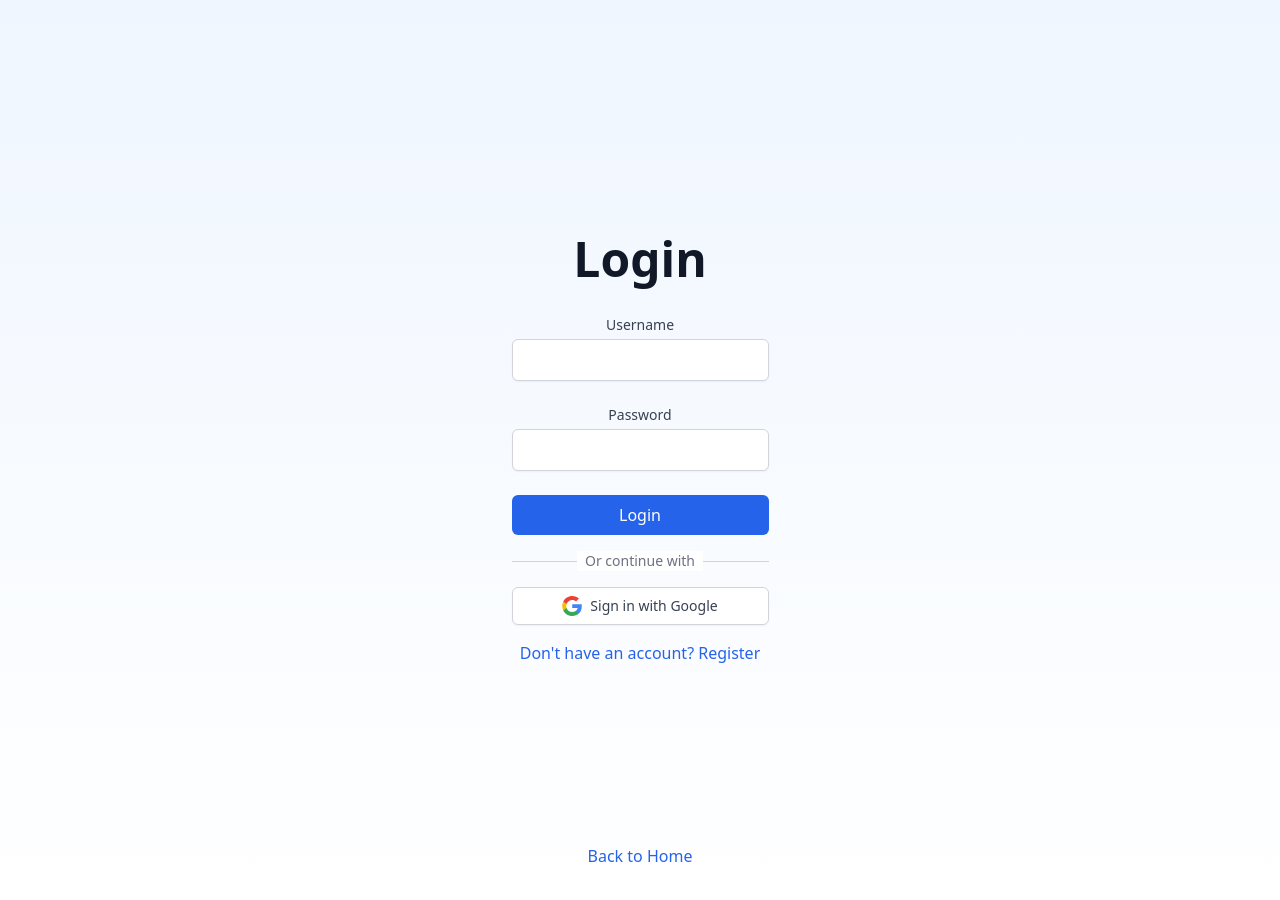
Scenario: Login Component › shows error on failed login
The image size is (1280, 900).
In the field labelled "Username": x=640, y=360 [512, 339, 768, 381], type "testuser"
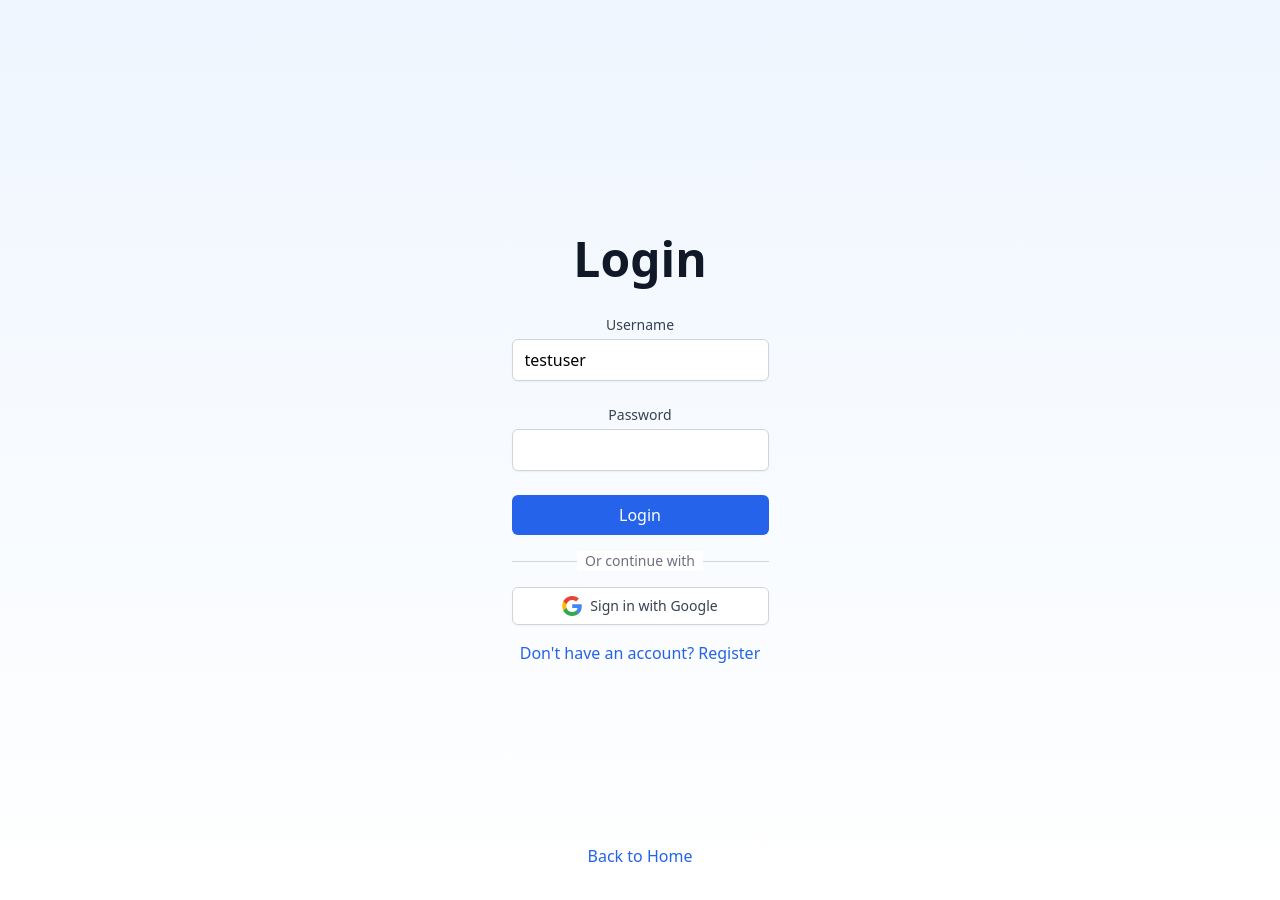
In the password field labelled "Password": x=640, y=450 [512, 429, 768, 471], type "wrongpass"
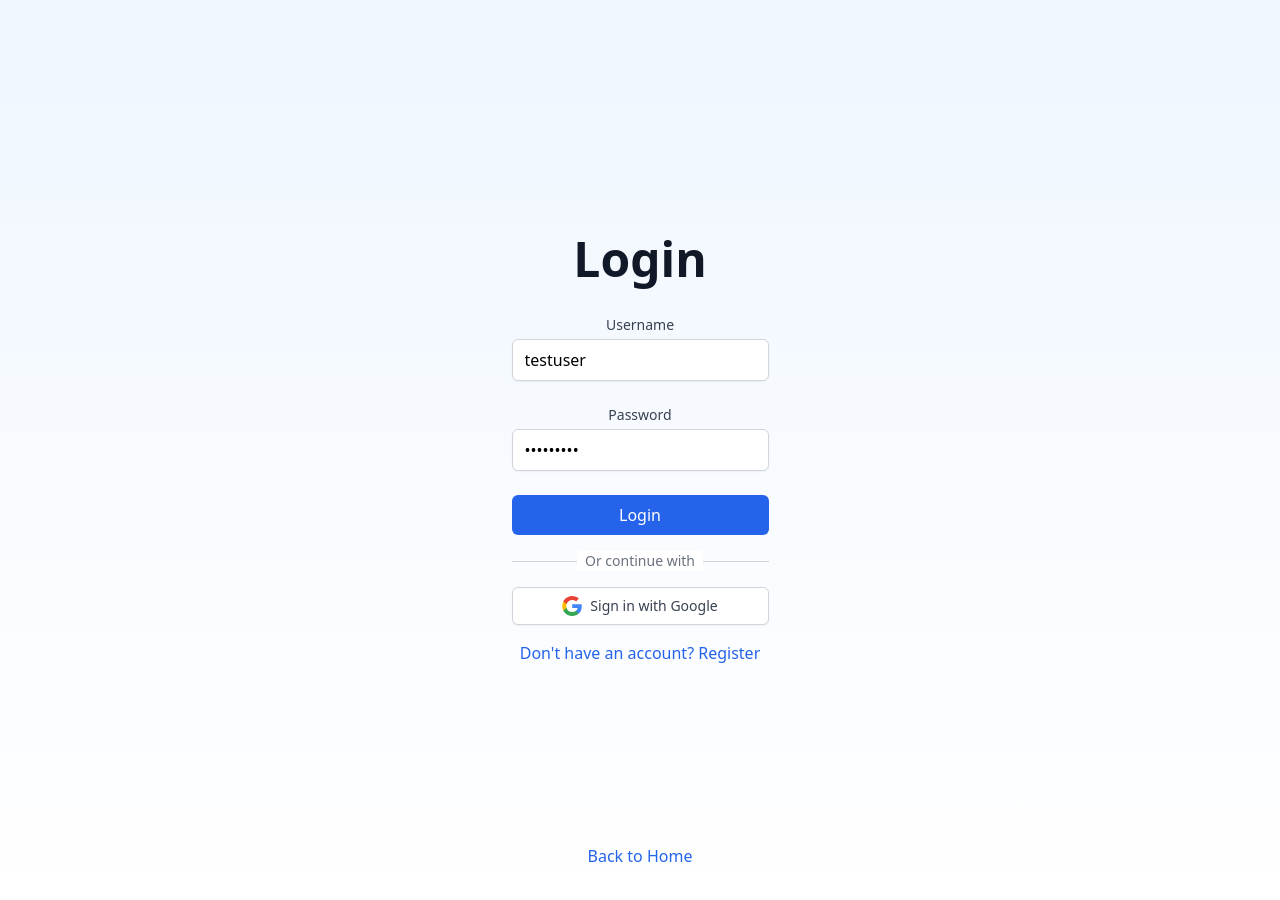
Click the button "Login": x=640, y=515 [512, 495, 768, 535]
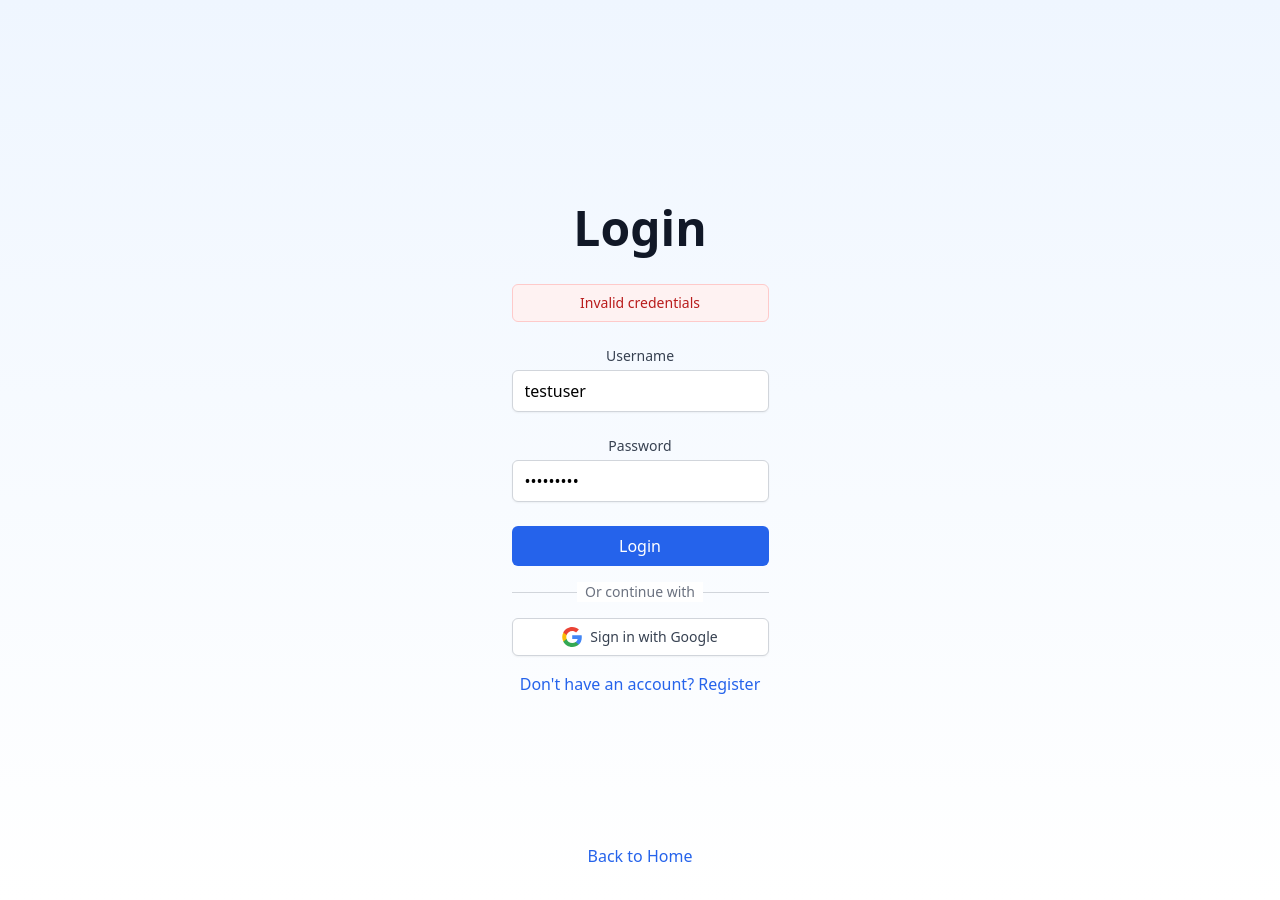
Now the message reads "Invalid credentials", box [580, 293, 700, 312]
